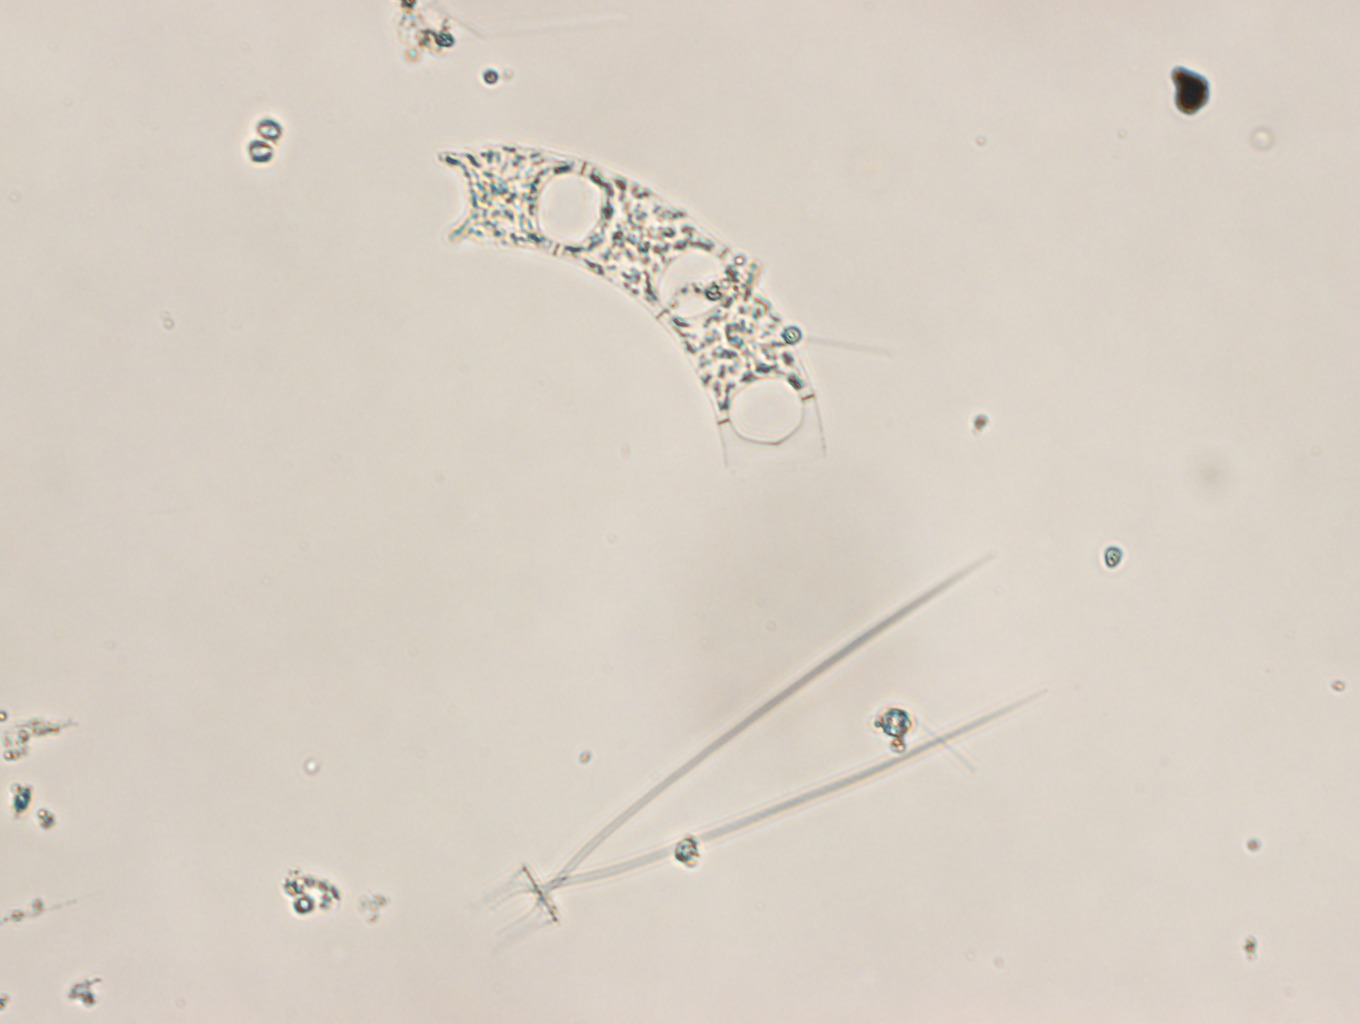chaetoceros: (484, 558, 1046, 936)
eucampia: (436, 146, 828, 479)
